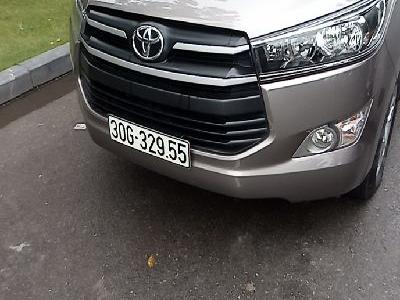car: (108, 115, 191, 169)
